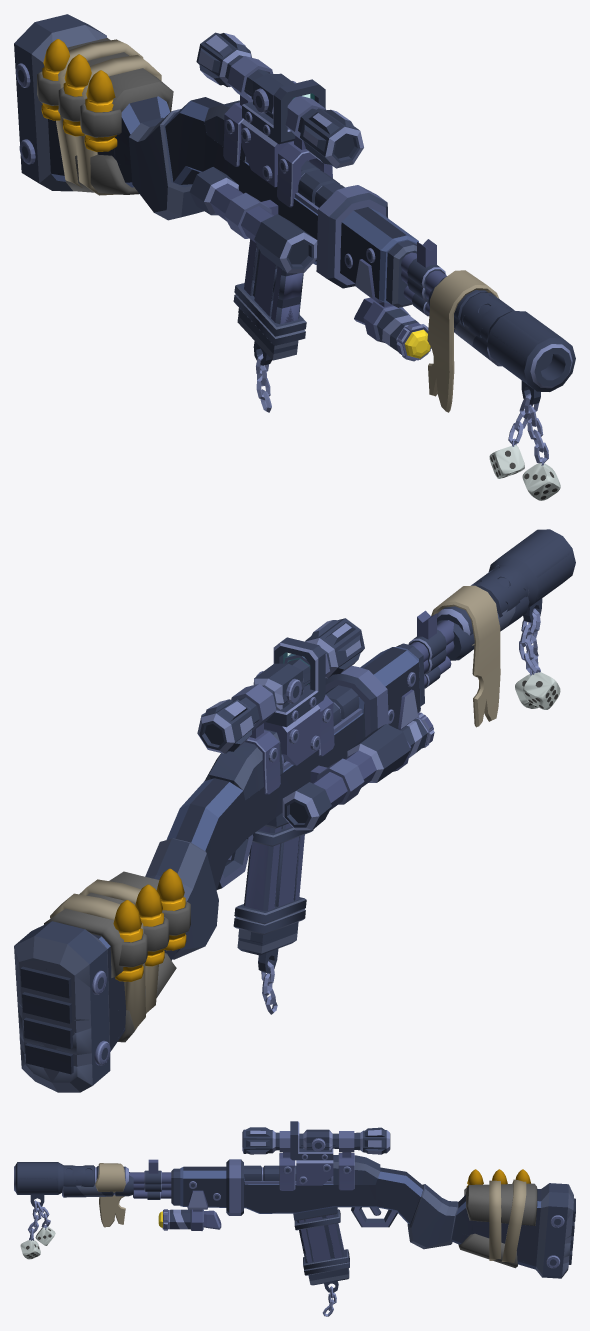
Rendered from riffle gun1.fbx.
3 renders of one model, top to bottom at view 1: azimuth 30°, elevation 25°; view 2: azimuth 150°, elevation 25°; view 3: azimuth 270°, elevation 25°, orthographic. The views are drawn at different scales.
Parts seen in each view (by area): view 1: RifleBase, RifleSapy4, RifleAim4, RifleMuffler4, RifleSapy3, RifleMuffler3, RifleAim2, RifleAim1, RiflePatron4, RifleAim3, RiflePatron2, RifleMuffler2 (+3 smaller); view 2: RifleBase, RifleSapy4, RifleAim4, RifleMuffler4, RifleSapy3, RifleSapy2, RifleAim1, RiflePatron2, RifleMuffler3, RiflePatron1, RifleAim2, RiflePatron4 (+4 smaller); view 3: RifleBase, RifleSapy3, RifleMuffler4, RifleAim4, RifleSapy4, RifleMuffler3, RiflePatron1, RifleSapy2, RifleAim1, RifleSapy1, RifleAim2, RifleMuffler1 (+5 smaller).
Part boxes in pixels (box(x1,y1,x2,y2)): RifleBase: box(128, 97, 431, 361); RifleSapy4: box(14, 14, 139, 194); RifleAim4: box(189, 33, 358, 273); RifleMuffler4: box(401, 241, 564, 500); RifleSapy3: box(14, 25, 173, 195); RifleMuffler3: box(402, 239, 575, 391); RifleAim2: box(196, 32, 363, 204); RifleAim1: box(241, 79, 325, 187); RiflePatron4: box(233, 248, 305, 412); RifleAim3: box(198, 46, 363, 207); RiflePatron2: box(235, 239, 306, 350); RifleMuffler2: box(402, 240, 565, 380); RifleBase: box(145, 643, 434, 959); RifleSapy4: box(14, 868, 190, 1092); RifleAim4: box(197, 618, 410, 830); RifleMuffler4: box(408, 529, 575, 727); RifleSapy3: box(17, 871, 166, 1085); RifleSapy2: box(15, 930, 126, 1082); RifleAim1: box(264, 637, 325, 765); RiflePatron2: box(234, 823, 313, 943); RifleMuffler3: box(417, 529, 574, 680); RiflePatron1: box(234, 823, 306, 943); RifleAim2: box(202, 618, 364, 794); RiflePatron4: box(234, 846, 305, 1014); RifleBase: box(158, 1155, 458, 1252); RifleSapy3: box(452, 1179, 571, 1278); RifleMuffler4: box(17, 1162, 171, 1259); RifleAim4: box(243, 1127, 390, 1189); RifleSapy4: box(452, 1169, 573, 1277); RifleMuffler3: box(14, 1162, 170, 1199); RiflePatron1: box(302, 1214, 349, 1279); RifleSapy2: box(454, 1198, 575, 1271); RifleAim1: box(290, 1121, 333, 1185); RifleSapy1: box(452, 1206, 569, 1276); RifleAim2: box(242, 1129, 386, 1189); RifleMuffler1: box(62, 1168, 171, 1197).
Size of the model in its own units: 1.06 by 3.28 by 8.7.
